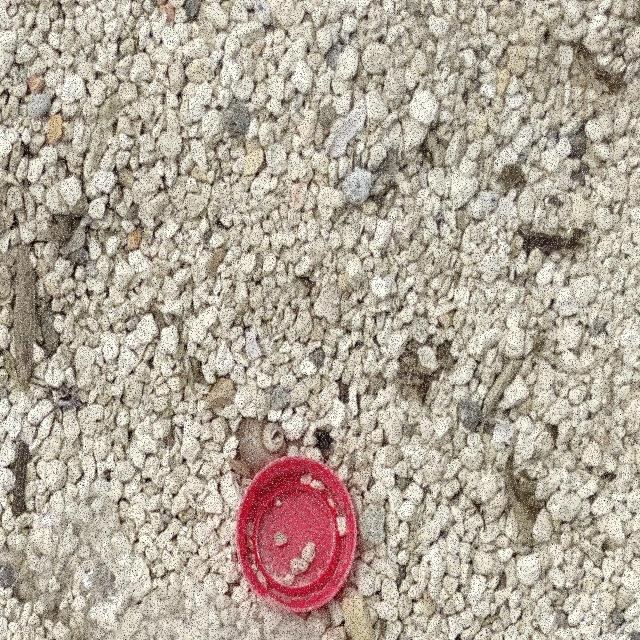plastic_waste: (236, 455, 361, 616)
